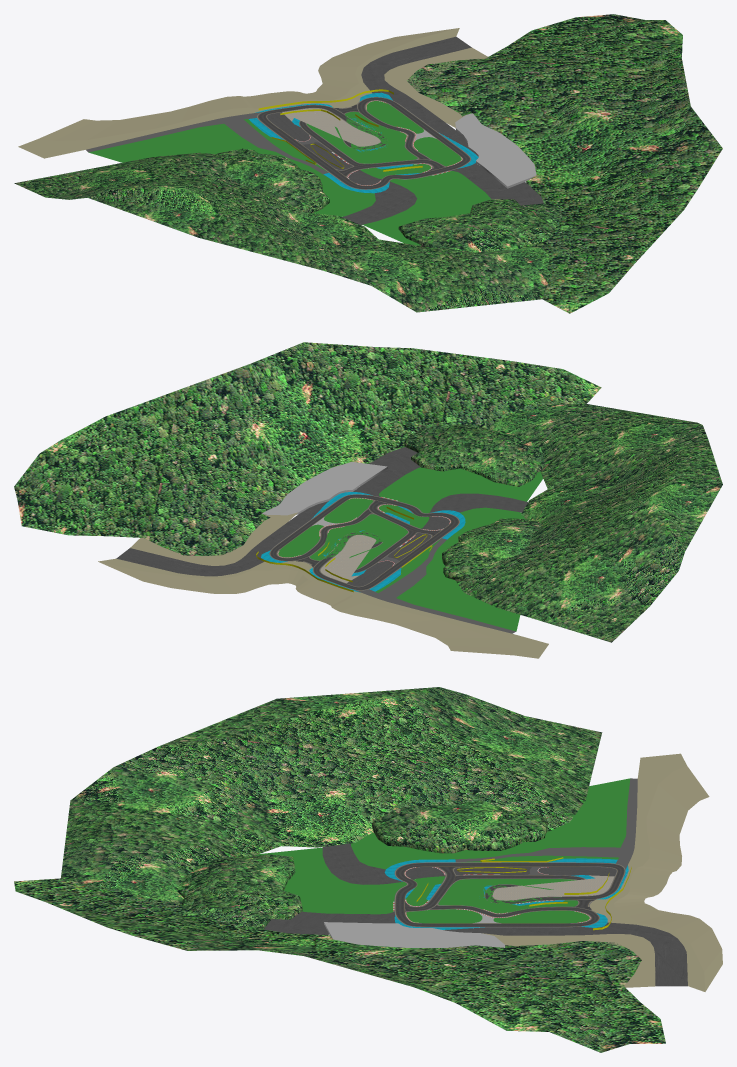
The model's file is all2.fbx.
3 renders of one model, top to bottom at view 1: azimuth 30°, elevation 25°; view 2: azimuth 150°, elevation 25°; view 3: azimuth 270°, elevation 25°, orthographic. The views are drawn at different scales.
Visible parts, largest first — view 1: polySurface57, polySurface58, polySurface100, polySurface101, polySurface102, polySurface59, polySurface104, polySurface55, polySurface56, polySurface103, polySurface26, polySurface29; view 2: polySurface57, polySurface58, polySurface100, polySurface101, polySurface102, polySurface59, polySurface104, polySurface55, polySurface56, polySurface103, polySurface29, polySurface26; view 3: polySurface58, polySurface57, polySurface100, polySurface101, polySurface102, polySurface59, polySurface55, polySurface104, polySurface56, polySurface103, polySurface26, polySurface29.
Boxes of the visible parts, x1,y1,x2,y2 form: polySurface57: [407, 14, 722, 313]; polySurface58: [14, 152, 552, 312]; polySurface100: [88, 101, 490, 245]; polySurface101: [18, 28, 487, 158]; polySurface102: [267, 36, 543, 224]; polySurface59: [398, 199, 562, 252]; polySurface104: [256, 97, 471, 189]; polySurface55: [213, 148, 329, 212]; polySurface56: [455, 113, 536, 188]; polySurface103: [249, 92, 478, 193]; polySurface26: [224, 119, 328, 174]; polySurface29: [86, 112, 262, 152]; polySurface57: [14, 342, 601, 555]; polySurface58: [455, 404, 722, 642]; polySurface100: [278, 467, 543, 631]; polySurface101: [98, 512, 548, 658]; polySurface102: [116, 447, 527, 586]; polySurface59: [404, 424, 544, 486]; polySurface104: [269, 494, 459, 590]; polySurface55: [442, 518, 541, 581]; polySurface56: [262, 462, 387, 515]; polySurface103: [261, 492, 465, 592]; polySurface29: [355, 589, 515, 633]; polySurface26: [379, 538, 446, 597]; polySurface58: [60, 687, 602, 902]; polySurface57: [14, 878, 665, 1052]; polySurface100: [254, 778, 630, 923]; polySurface101: [482, 753, 722, 991]; polySurface102: [264, 843, 687, 986]; polySurface59: [177, 854, 302, 929]; polySurface55: [372, 800, 547, 853]; polySurface104: [394, 862, 625, 927]; polySurface56: [324, 922, 504, 947]; polySurface103: [384, 858, 628, 929]; polySurface26: [455, 847, 620, 862]; polySurface29: [616, 778, 637, 869].
Bounding box in the file's own units: 174654 × 16061 × 155916.
